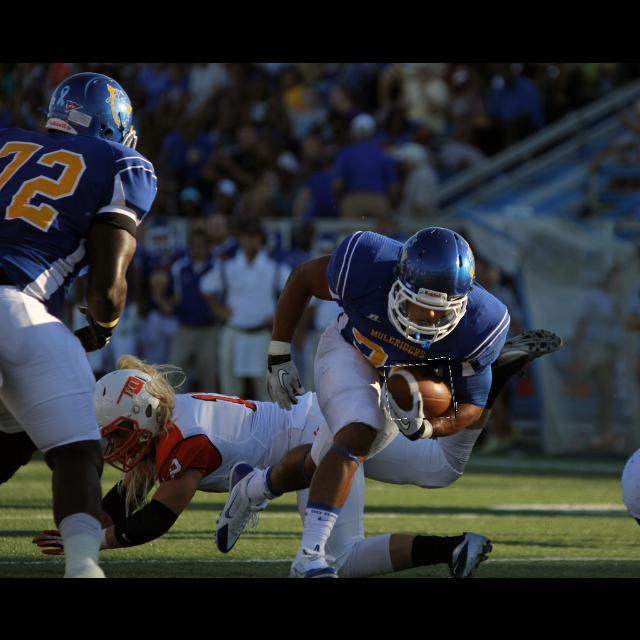Football: (386, 360, 456, 418)
